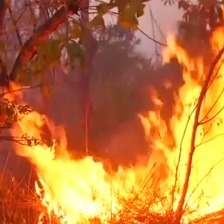incendio: (132, 27, 222, 137), (113, 88, 198, 197), (1, 88, 70, 178), (38, 146, 114, 213), (128, 172, 216, 220)
